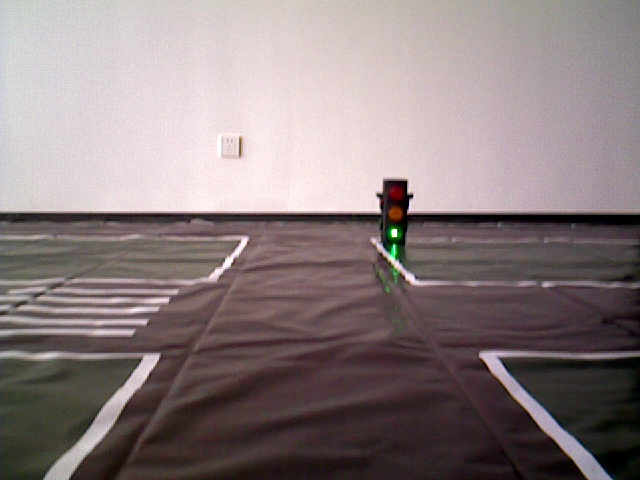green: (381, 180, 406, 242)
